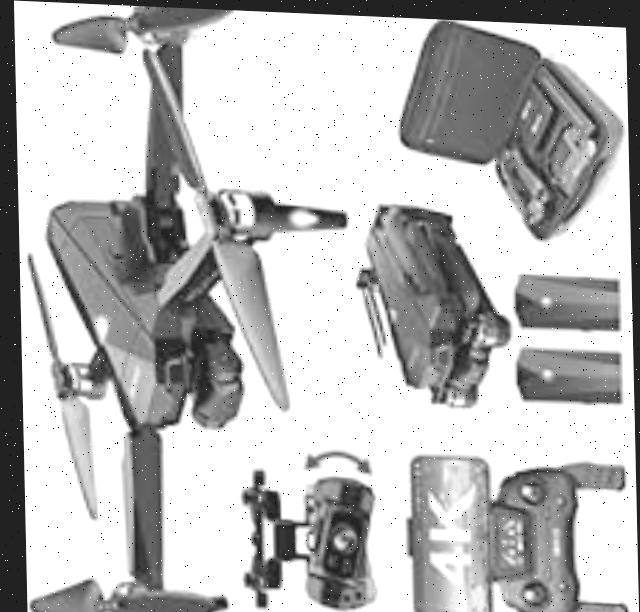drone: (14, 0, 365, 612)
